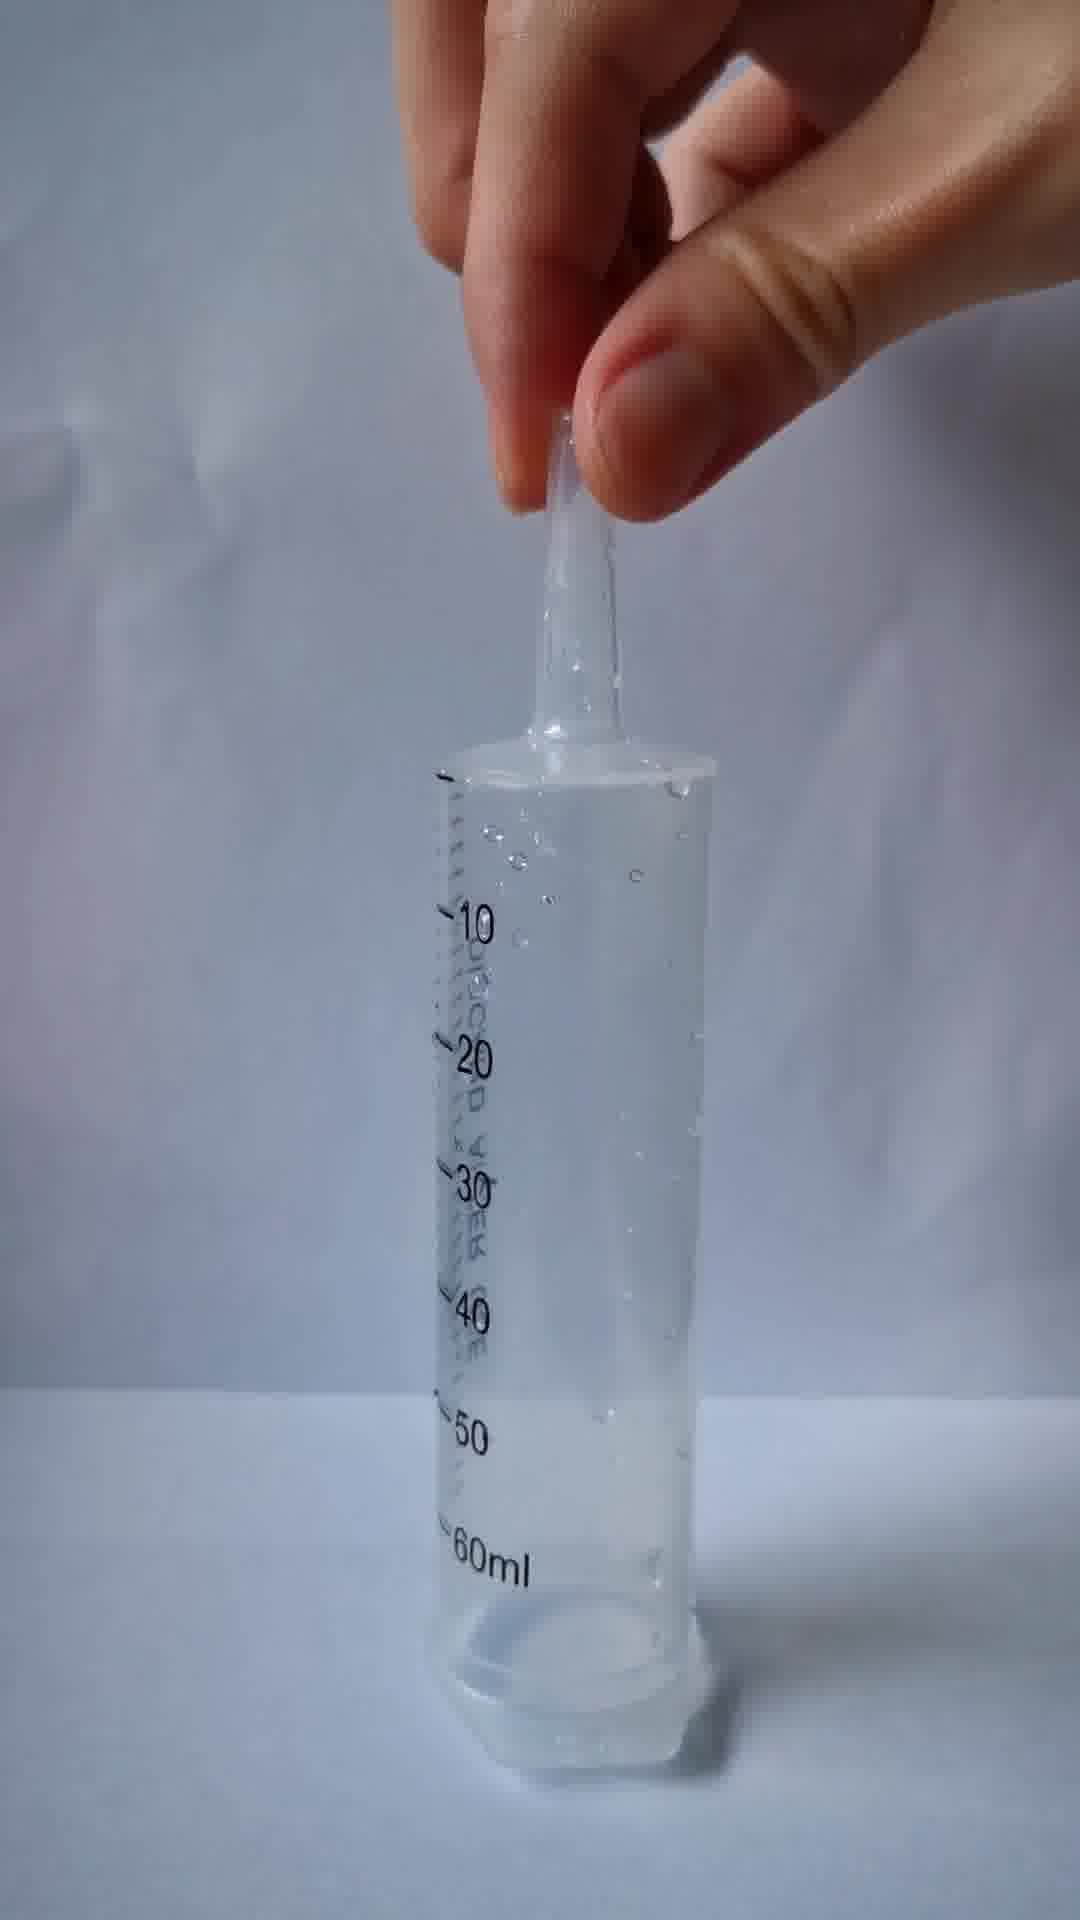syringe: (429, 413, 729, 1774)
